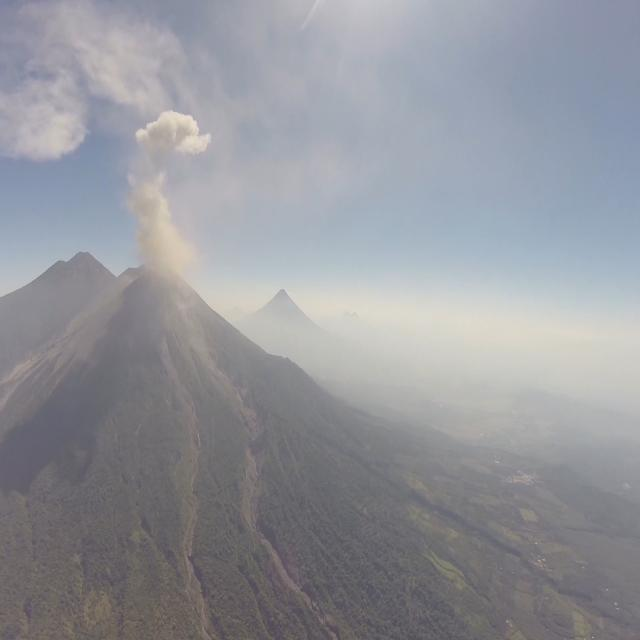Plume: (1, 42, 92, 162), (124, 162, 202, 278), (133, 102, 214, 160)
